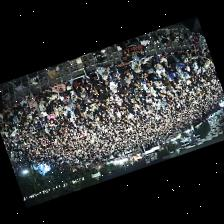person: (82, 61, 99, 82), (152, 56, 165, 75), (173, 54, 186, 71), (148, 67, 159, 85), (73, 77, 88, 90), (117, 62, 130, 75), (52, 83, 65, 95), (141, 56, 152, 70), (108, 75, 117, 92), (97, 66, 109, 78), (85, 79, 94, 94), (132, 68, 143, 80), (123, 84, 133, 97), (42, 88, 52, 101), (131, 59, 141, 71), (5, 104, 14, 117), (94, 80, 103, 93), (174, 50, 184, 61), (120, 72, 131, 82), (143, 75, 152, 87), (63, 89, 72, 101), (109, 63, 116, 78), (51, 91, 59, 104), (50, 100, 60, 110), (120, 77, 129, 88), (100, 75, 109, 86), (21, 96, 28, 110), (29, 100, 37, 112), (159, 53, 167, 65), (39, 100, 46, 113), (68, 98, 75, 111), (12, 103, 21, 113), (26, 92, 34, 103), (74, 96, 81, 108), (65, 79, 73, 89), (48, 112, 55, 123), (115, 68, 120, 83), (118, 41, 127, 49), (70, 91, 77, 101), (56, 105, 63, 115), (191, 48, 198, 58), (193, 61, 199, 72), (44, 98, 52, 106), (115, 94, 121, 104), (196, 48, 203, 55), (81, 88, 86, 96)
